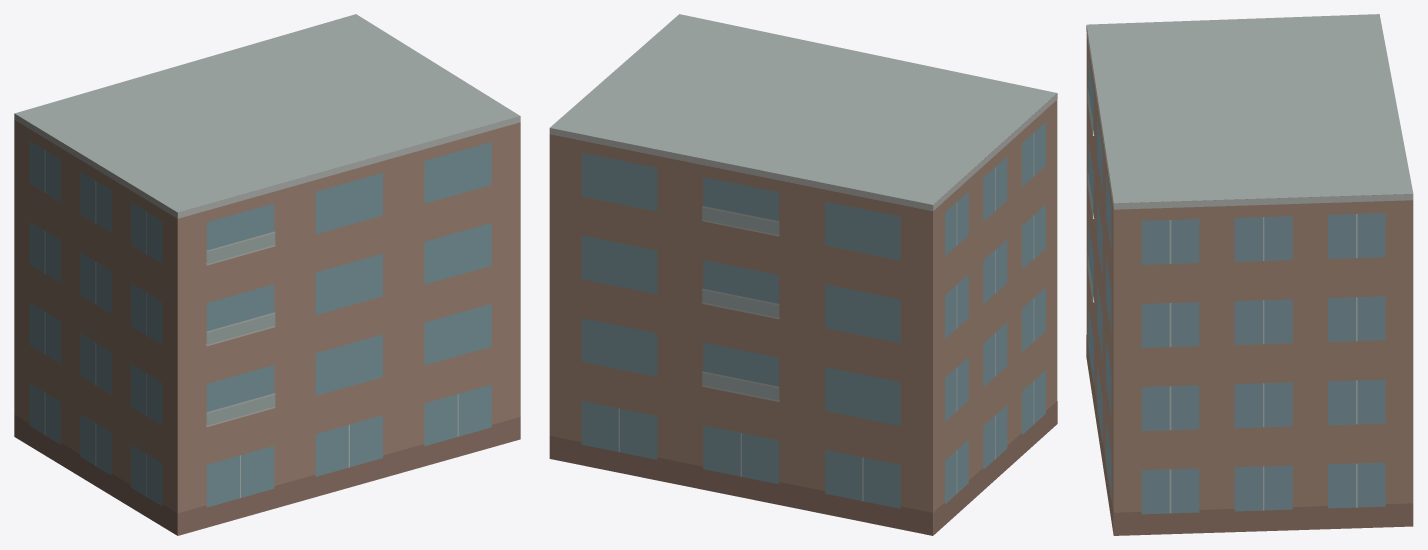
Rendered from survey-upis-32663117.glb.
The picture shows the model from 3 angles, left to right: view 1: azimuth 30°, elevation 25°; view 2: azimuth 150°, elevation 25°; view 3: azimuth 270°, elevation 25°; orthographic projection. The views are drawn at different scales.
Parts seen in each view (by area): view 1: survey-upis-32663117.tmp; view 2: survey-upis-32663117.tmp; view 3: survey-upis-32663117.tmp.
Part boxes in pixels (x1,y1,x2,y2): survey-upis-32663117.tmp: (14,14,520,535); survey-upis-32663117.tmp: (549,14,1057,535); survey-upis-32663117.tmp: (1086,14,1413,535).
Size of the model in its own units: 15.46 by 12.66 by 11.29.
